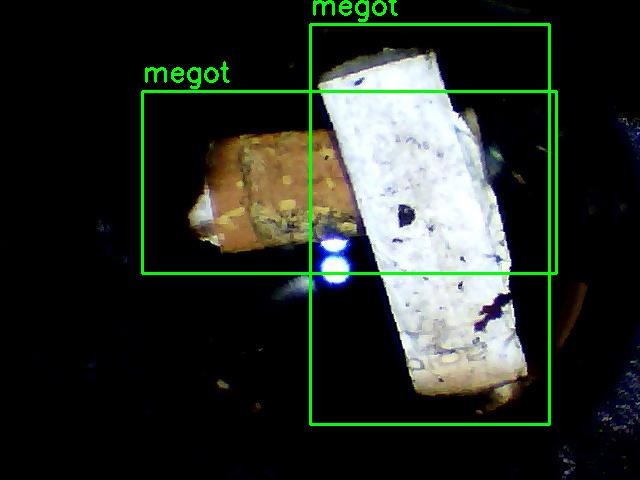megot: (310, 24, 549, 424), (142, 91, 556, 273)
